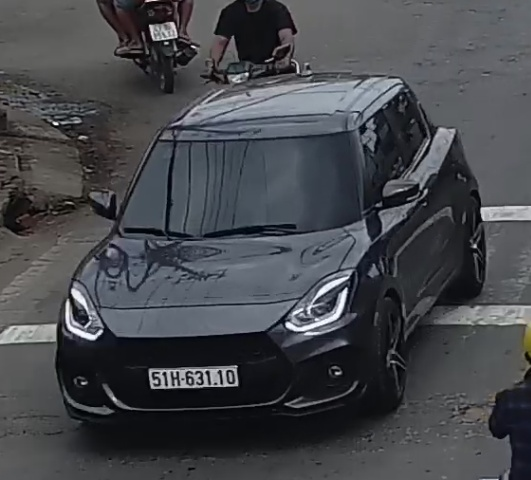vehicle plate: (139, 357, 246, 393)
